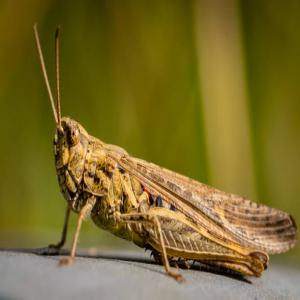locust: (42, 64, 300, 300)
